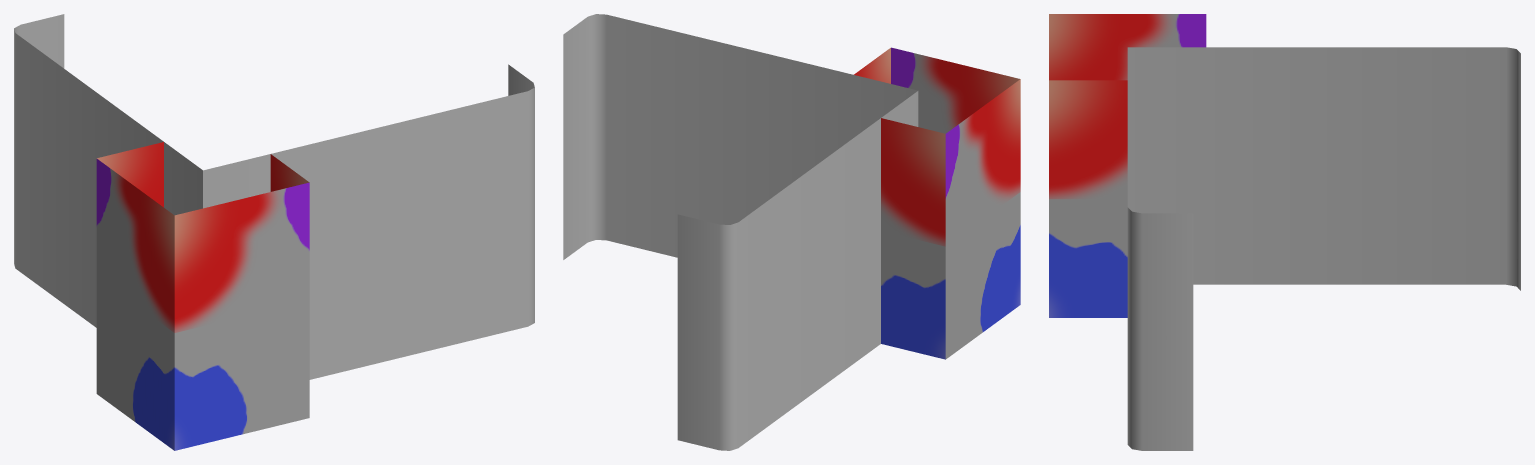
Rendered from SM_SS02_Accent_Corner.fbx.
3 views of the same model, side by side, from view 1: azimuth 30°, elevation 25°; view 2: azimuth 150°, elevation 25°; view 3: azimuth 270°, elevation 25° (orthographic). The views are drawn at different scales.
Visible parts, largest first — view 1: SM_SS02_Accent_Corner; view 2: SM_SS02_Accent_Corner; view 3: SM_SS02_Accent_Corner.
Part boxes in pixels (x1,y1,x2,y2): SM_SS02_Accent_Corner: (14,14,534,450); SM_SS02_Accent_Corner: (563,14,1020,450); SM_SS02_Accent_Corner: (1049,14,1520,450).
Size of the model in its own units: 180 by 100 by 180.
